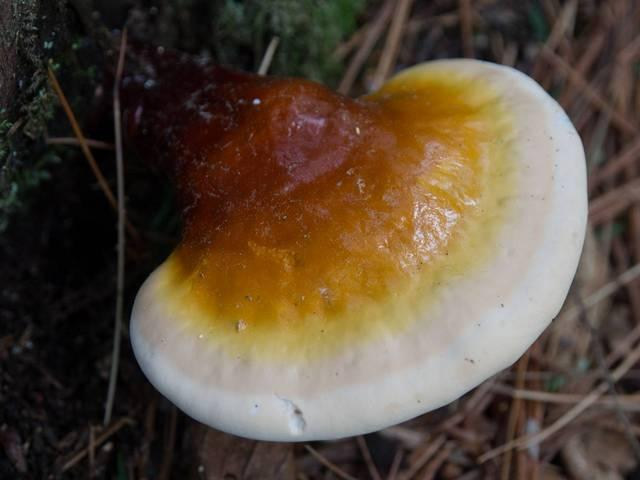Non-edible Mushroom: (113, 42, 590, 444)
